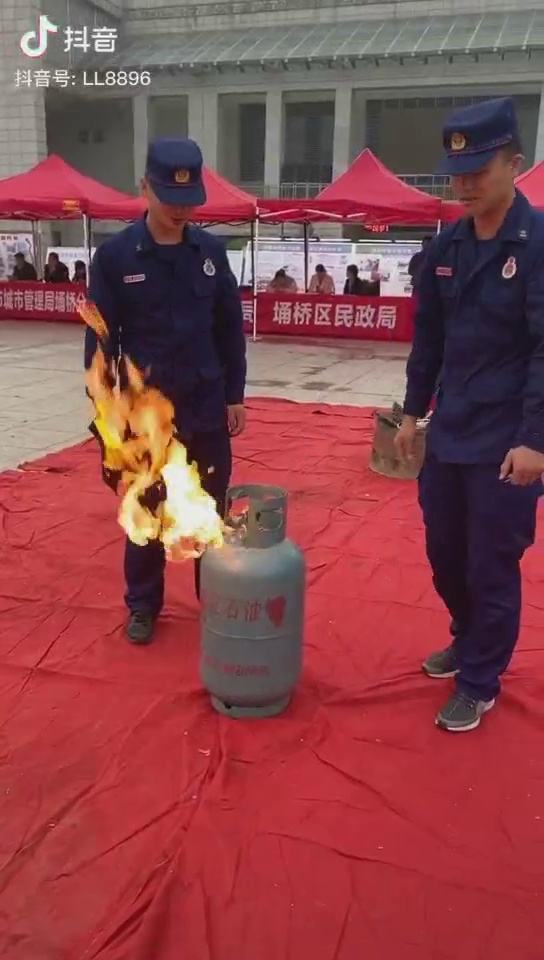fire: (71, 335, 235, 553)
